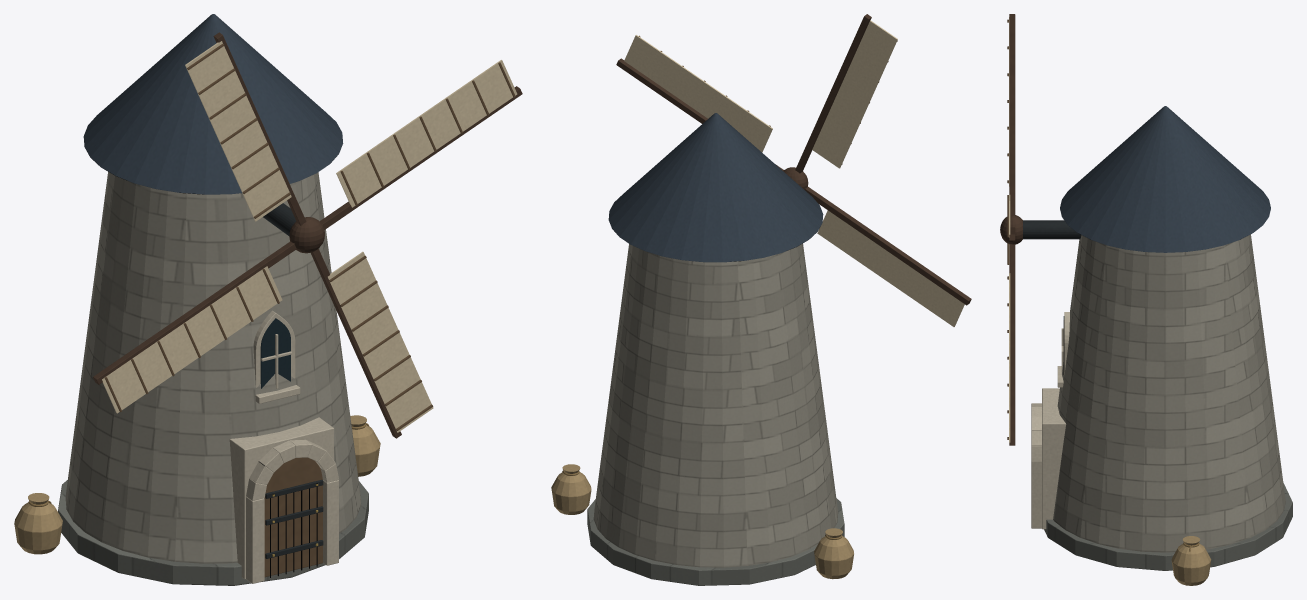
Rendered from Windmill.fbx.
The picture shows the model from 3 angles, left to right: view 1: azimuth 30°, elevation 25°; view 2: azimuth 150°, elevation 25°; view 3: azimuth 270°, elevation 25°; orthographic projection. The views are drawn at different scales.
Parts seen in each view (by area): view 1: Windmill.001; view 2: Windmill.001; view 3: Windmill.001.
Part boxes in pixels (x1,y1,x2,y2): Windmill.001: (14,14,522,585); Windmill.001: (551,14,971,585); Windmill.001: (1000,14,1292,585).
Size of the model in its own units: 9.26 by 11.98 by 6.78.
